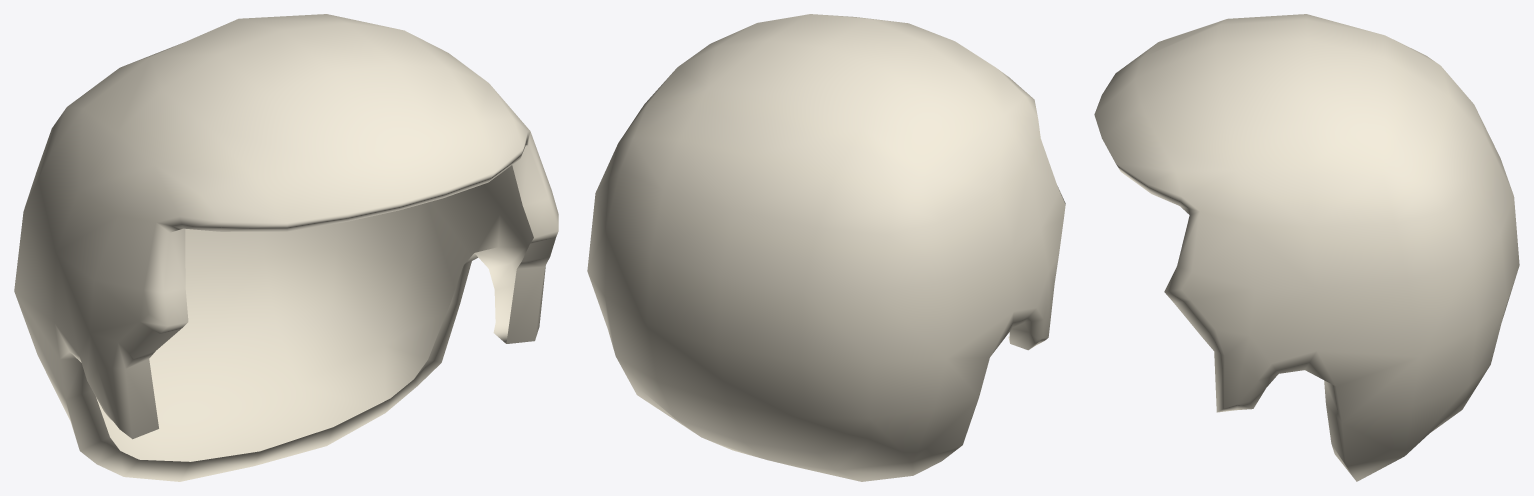
File: Hair_7.fbx
3 renders of one model, left to right at view 1: azimuth 30°, elevation 25°; view 2: azimuth 150°, elevation 25°; view 3: azimuth 270°, elevation 25°, orthographic. The views are drawn at different scales.
Parts seen in each view (by area): view 1: Hair_7; view 2: Hair_7; view 3: Hair_7.
Part boxes in pixels (x1,y1,x2,y2): Hair_7: (14, 14, 558, 481); Hair_7: (587, 14, 1065, 481); Hair_7: (1094, 14, 1519, 481).
Size of the model in its own units: 52.84 by 51.31 by 48.92.
